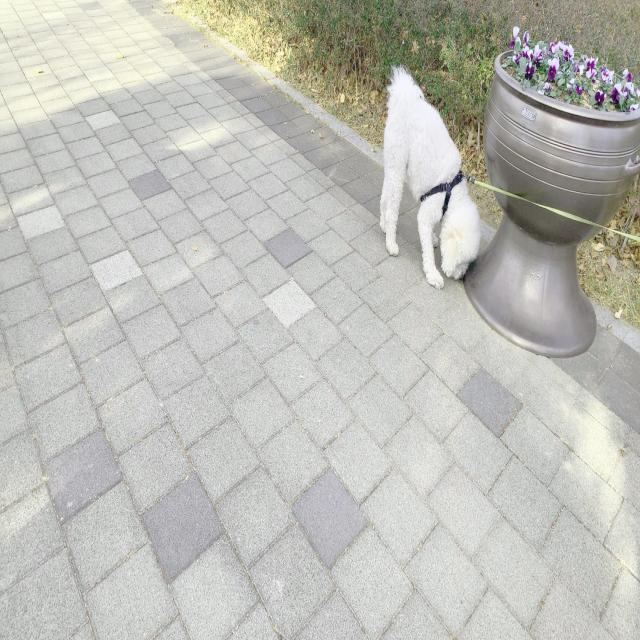Dog: (378, 60, 483, 293)
